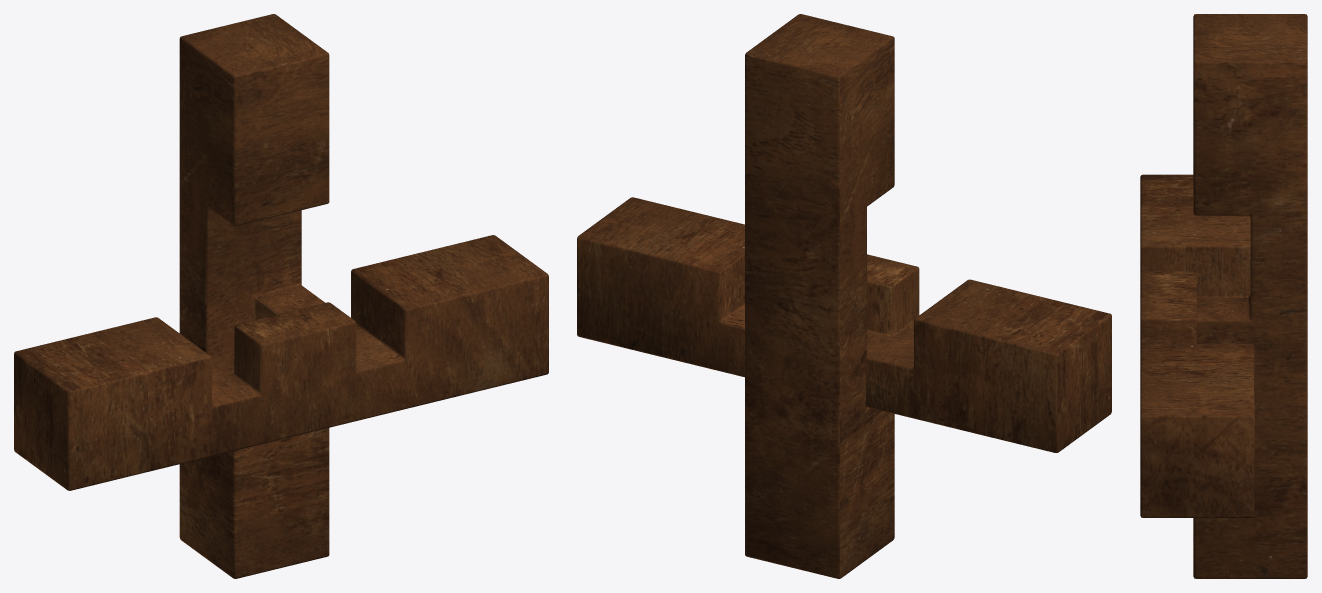
Rendered from step_02_luban_a_b.glb.
3 views of the same model, side by side, from view 1: azimuth 30°, elevation 25°; view 2: azimuth 150°, elevation 25°; view 3: azimuth 270°, elevation 25° (orthographic). The views are drawn at different scales.
Parts seen in each view (by area): view 1: luban_a, luban_b; view 2: luban_b, luban_a; view 3: luban_b, luban_a.
Boxes of the visible parts, x1=… form: luban_a: x1=14, y1=235, x2=548, y2=490; luban_b: x1=179, y1=14, x2=329, y2=578; luban_b: x1=745, y1=14, x2=894, y2=578; luban_a: x1=577, y1=197, x2=1111, y2=452; luban_b: x1=1193, y1=14, x2=1307, y2=578; luban_a: x1=1140, y1=174, x2=1254, y2=517.
Size of the model in its own units: 10 by 10 by 2.93.
Materials: 1 (1 with a texture image).
